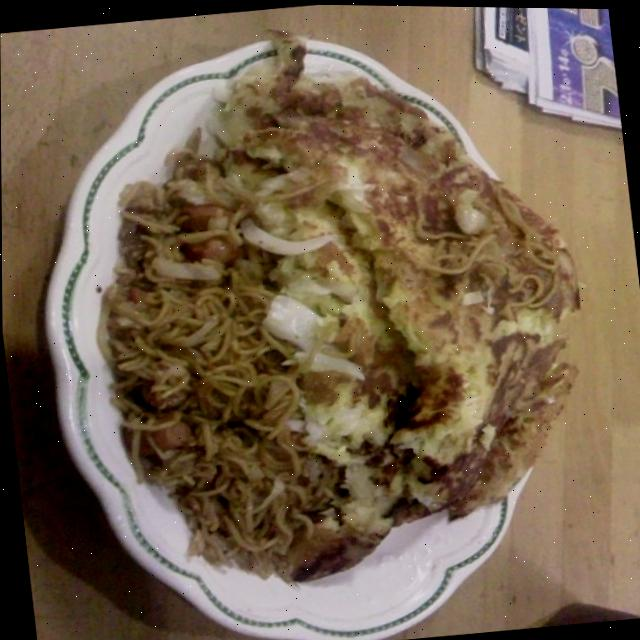蛋糕甜品: (186, 2, 615, 588)
面条主食: (76, 131, 353, 602)
